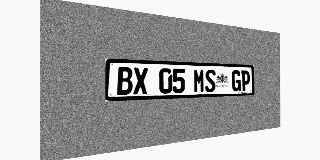0: (159, 68, 172, 94)
5: (173, 68, 185, 93)
B: (117, 67, 133, 95)
G: (232, 70, 241, 91)
M: (193, 69, 205, 93)
P: (241, 70, 250, 91)
S: (205, 69, 216, 92)
X: (133, 67, 148, 95)
